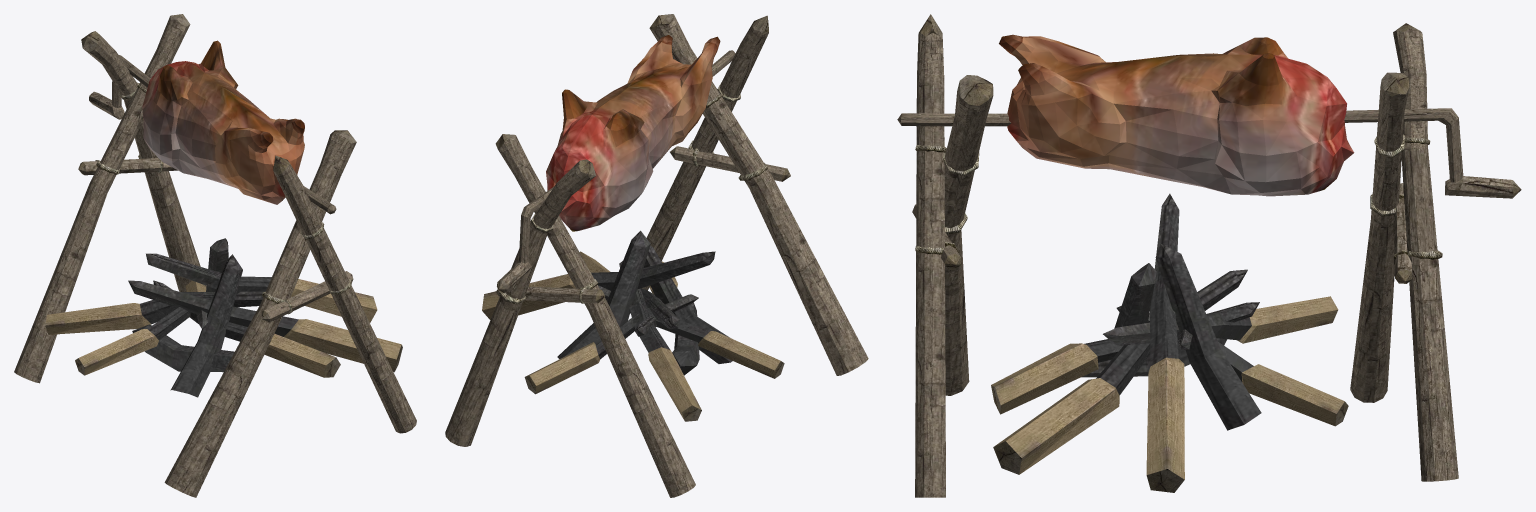
File: TW2_5_CAMP_01_02-transformed.glb
3 views of the same model, side by side, from view 1: azimuth 30°, elevation 25°; view 2: azimuth 150°, elevation 25°; view 3: azimuth 270°, elevation 25° (orthographic). The views are drawn at different scales.
Visible parts, largest first — view 1: default; view 2: default; view 3: default.
Part boxes in pixels (bbox=[...]): default: bbox=[14, 14, 416, 497]; default: bbox=[445, 14, 868, 497]; default: bbox=[897, 14, 1521, 497].
Size of the model in its own units: 1.09 by 1.18 by 1.52.
2 materials, 2 textured.
